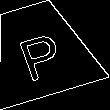P_N: (12, 20, 67, 80)
